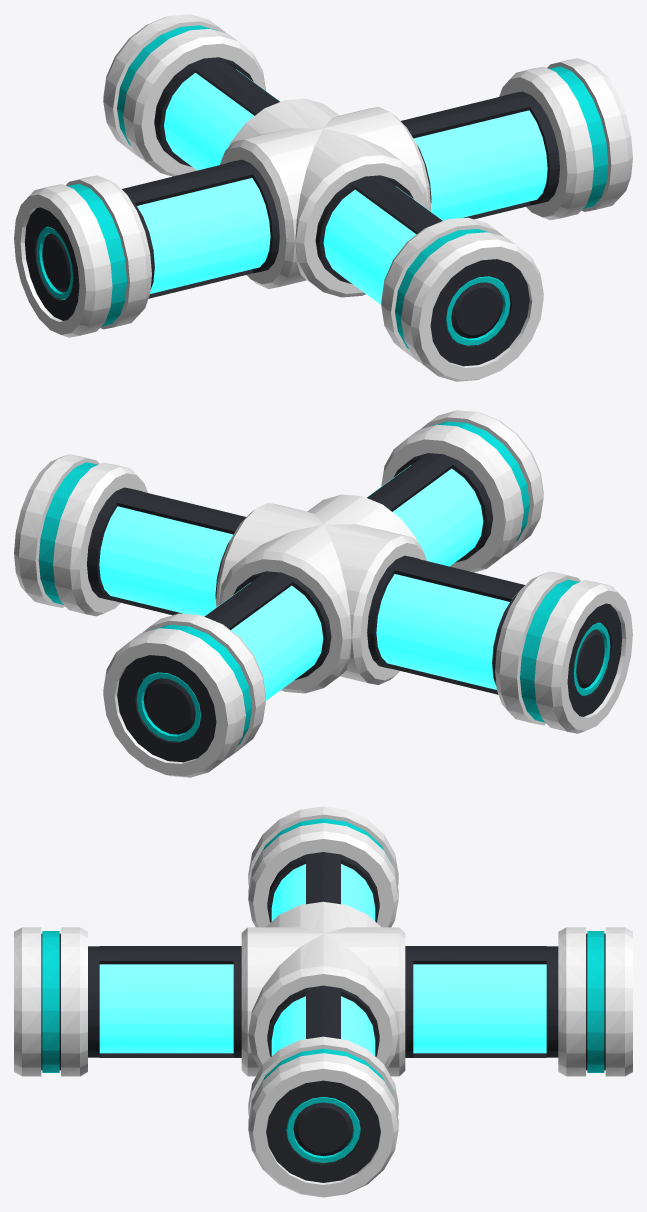
The model's file is SM_Cable_Large_Cross.fbx.
3 renders of one model, top to bottom at view 1: azimuth 30°, elevation 25°; view 2: azimuth 150°, elevation 25°; view 3: azimuth 270°, elevation 25°, orthographic. The views are drawn at different scales.
Parts seen in each view (by area): view 1: SM_Cable_Large_Cross; view 2: SM_Cable_Large_Cross; view 3: SM_Cable_Large_Cross.
Part boxes in pixels (x1,y1,x2,y2): SM_Cable_Large_Cross: (14,14,632,381); SM_Cable_Large_Cross: (14,410,632,777); SM_Cable_Large_Cross: (14,806,632,1197).
Size of the model in its own units: 100 by 24.32 by 100.
